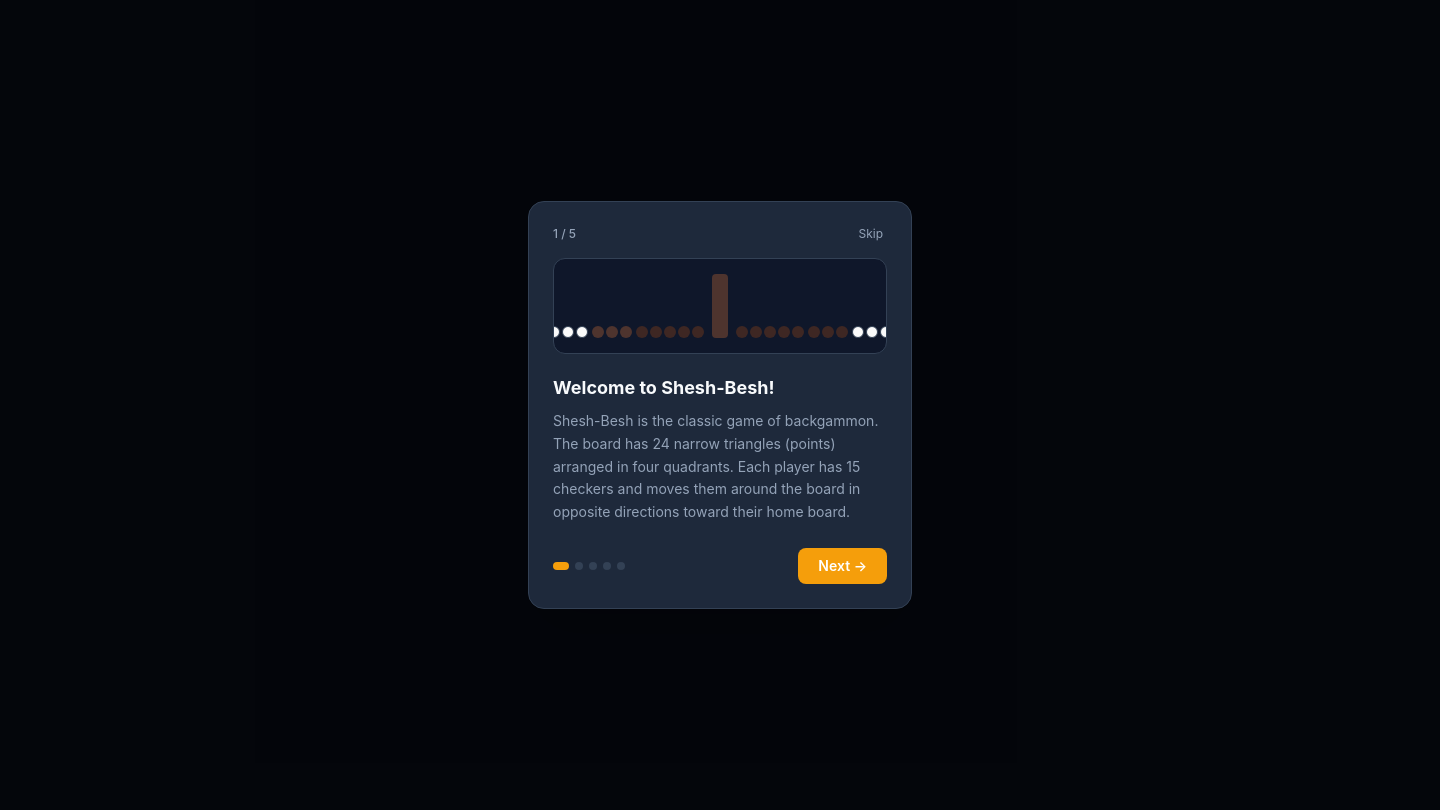
Scenario: Tutorial › advances to the next step when Next is clicked
The image size is (1440, 810).
Click the button "Next →".
click(843, 566)  # box x1=798 y1=548 x2=887 y2=584
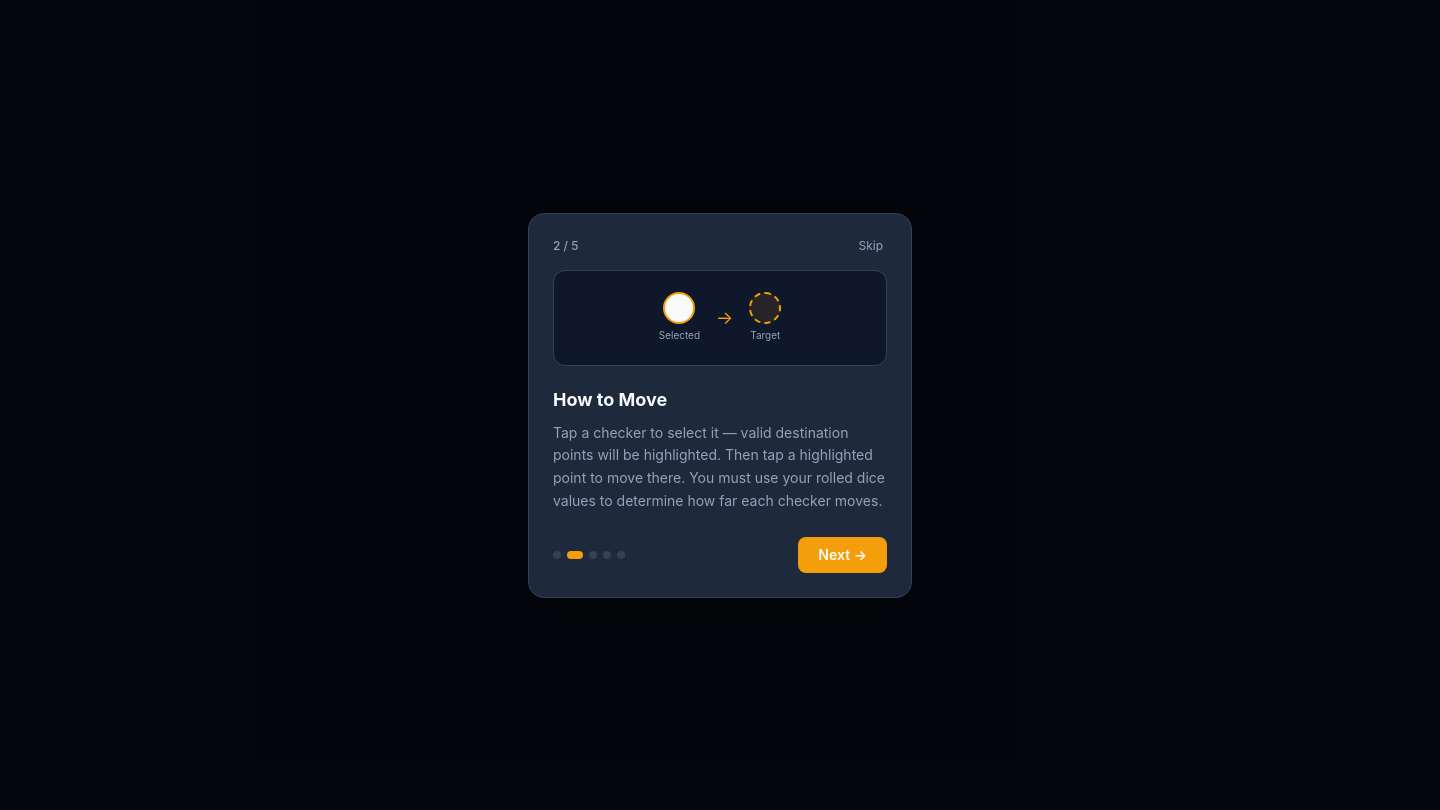
Now the heading "How to Move" is shown, box x1=553 y1=388 x2=667 y2=410
Now the text "2 / 5" is shown, box x1=553 y1=238 x2=578 y2=254
